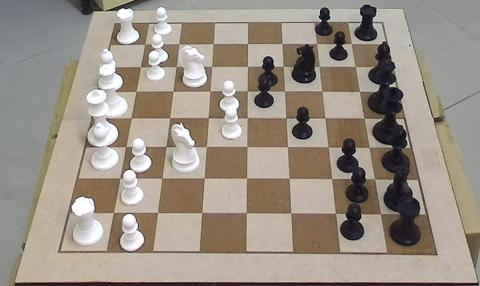xcorner: (347, 40, 357, 50), (312, 40, 322, 50), (277, 40, 287, 50), (242, 40, 252, 50), (173, 40, 183, 50), (351, 63, 361, 73), (315, 63, 325, 73), (242, 63, 252, 73), (206, 63, 216, 73), (170, 63, 180, 73), (134, 63, 144, 73), (360, 114, 370, 124), (321, 114, 331, 124), (203, 114, 213, 124), (164, 114, 174, 124), (125, 114, 135, 124), (283, 143, 293, 153), (161, 143, 171, 153), (120, 143, 130, 153), (371, 175, 381, 185), (328, 175, 338, 185), (285, 175, 295, 185), (200, 175, 210, 185), (157, 175, 167, 185), (115, 175, 125, 185), (332, 210, 342, 220), (208, 40, 217, 50), (138, 41, 148, 50), (279, 63, 288, 73), (318, 88, 328, 97), (280, 88, 290, 97), (205, 88, 215, 97), (130, 88, 140, 97), (282, 114, 291, 124), (243, 114, 252, 124), (243, 143, 252, 153), (202, 143, 211, 153), (243, 175, 252, 185), (378, 210, 387, 220), (288, 210, 297, 220), (243, 210, 252, 220), (198, 210, 208, 219), (153, 210, 163, 219), (356, 88, 365, 97), (243, 88, 252, 97), (168, 88, 177, 97), (366, 144, 375, 153), (325, 144, 334, 153), (109, 210, 118, 219)
